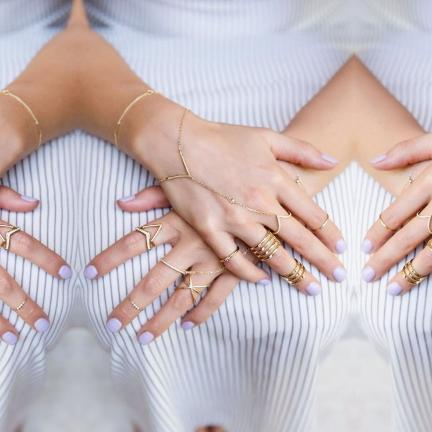Nail: (105, 317, 121, 333), (33, 317, 49, 333), (331, 266, 346, 282), (361, 266, 376, 282), (137, 331, 153, 345), (1, 331, 17, 345), (305, 282, 320, 296), (388, 282, 403, 296), (83, 265, 96, 279), (58, 265, 71, 279), (320, 153, 338, 163), (369, 153, 387, 163), (334, 239, 346, 253), (362, 239, 373, 253), (116, 195, 134, 202), (20, 195, 38, 202), (181, 321, 193, 330), (258, 279, 270, 285)
